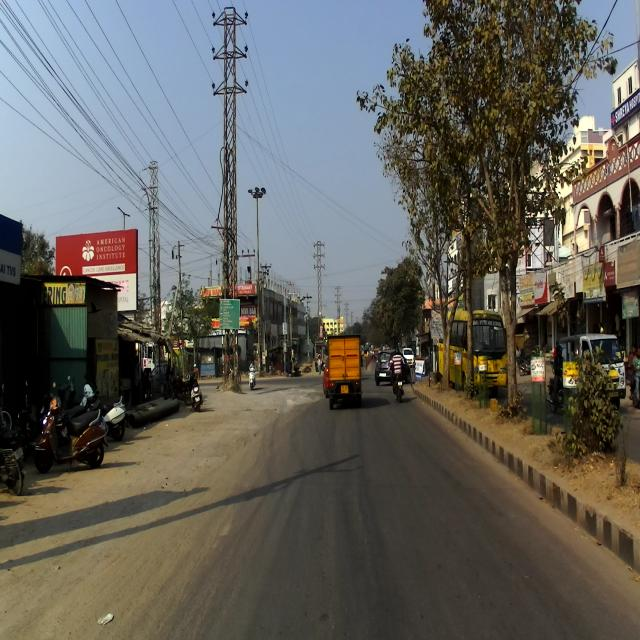auto ahead at: (327, 332, 366, 414)
motorcycle ahead at: (35, 382, 109, 479)
